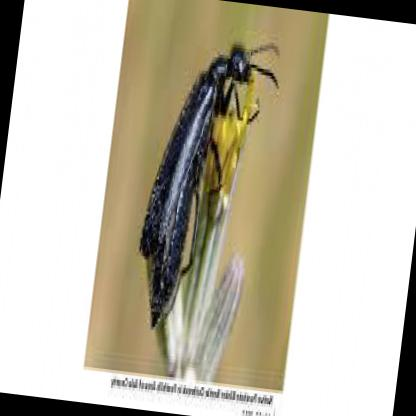blister beetle: (134, 37, 278, 337)
